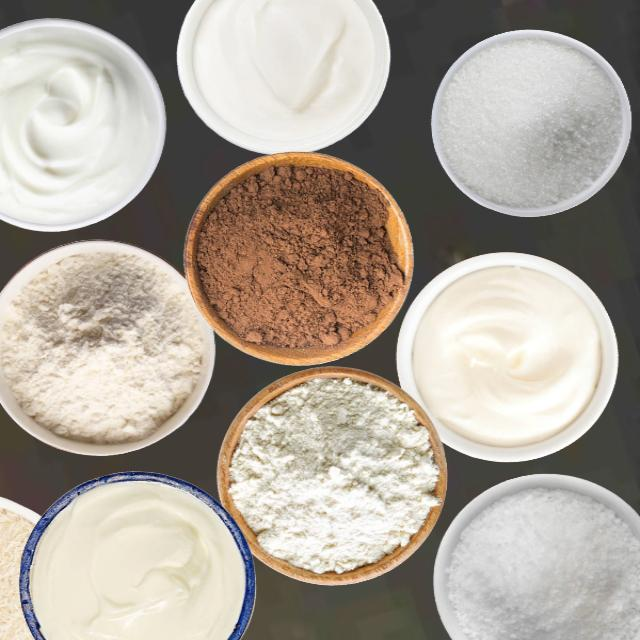Cocoa: (193, 145, 417, 367)
Flour: (227, 376, 441, 574), (0, 250, 204, 444)
Sugar: (436, 37, 622, 208), (445, 487, 639, 639)
